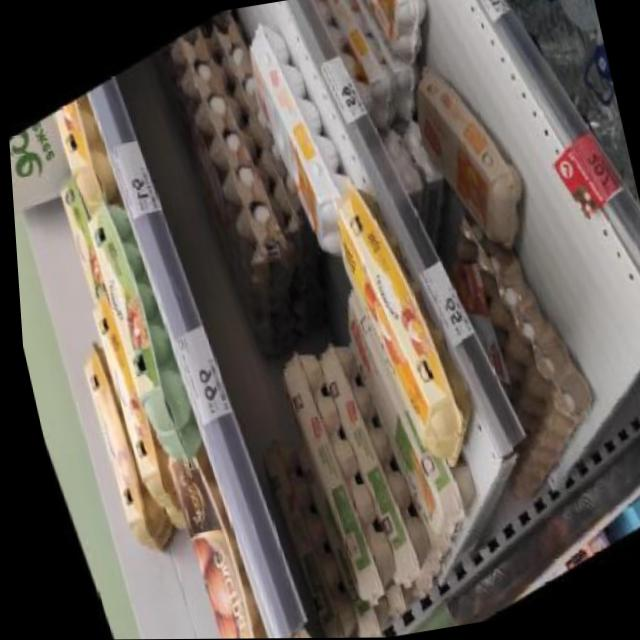Egg: (305, 150, 485, 493), (70, 189, 207, 478), (393, 30, 544, 279), (266, 337, 398, 614), (303, 322, 434, 599), (230, 3, 361, 265), (150, 439, 274, 639), (244, 423, 354, 639), (47, 90, 121, 215)
